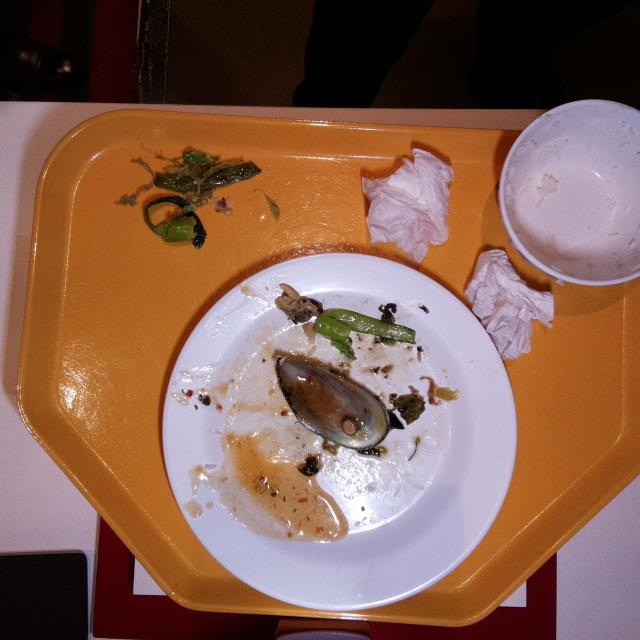Bone: (273, 281, 321, 325)
Mussel-shell: (274, 353, 390, 451)
Vegetable: (148, 151, 262, 195), (314, 306, 414, 356), (150, 216, 204, 248)
